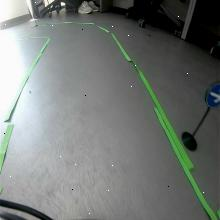right: (204, 78, 220, 109)
